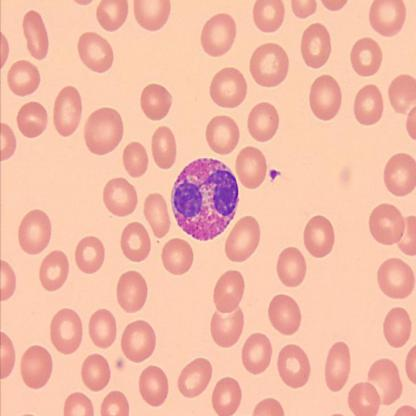Eosinophil: (171, 154, 242, 240)
